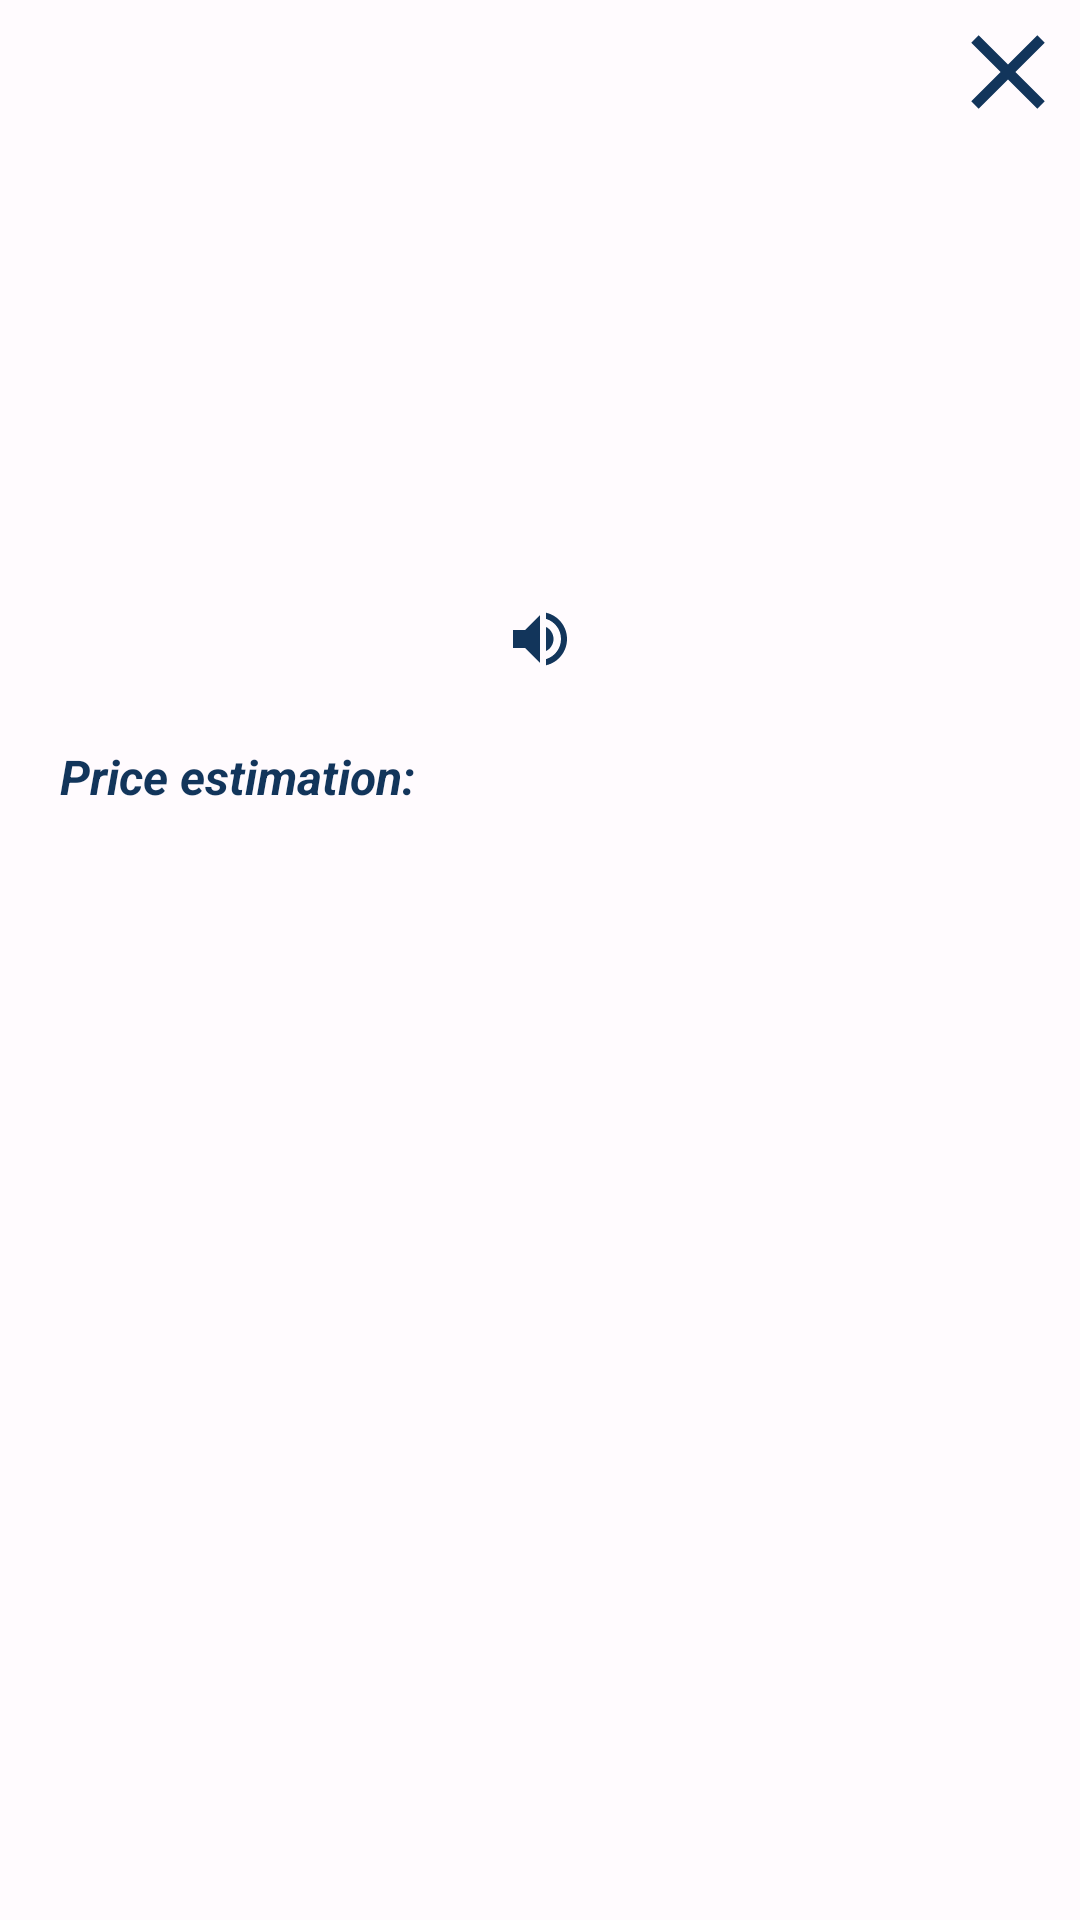

Screen size 1080×1920. Icon name, then its center in pixels as (x,y):
Close modal: (1008,72)
Spanish Pronunciation: (540,639)
